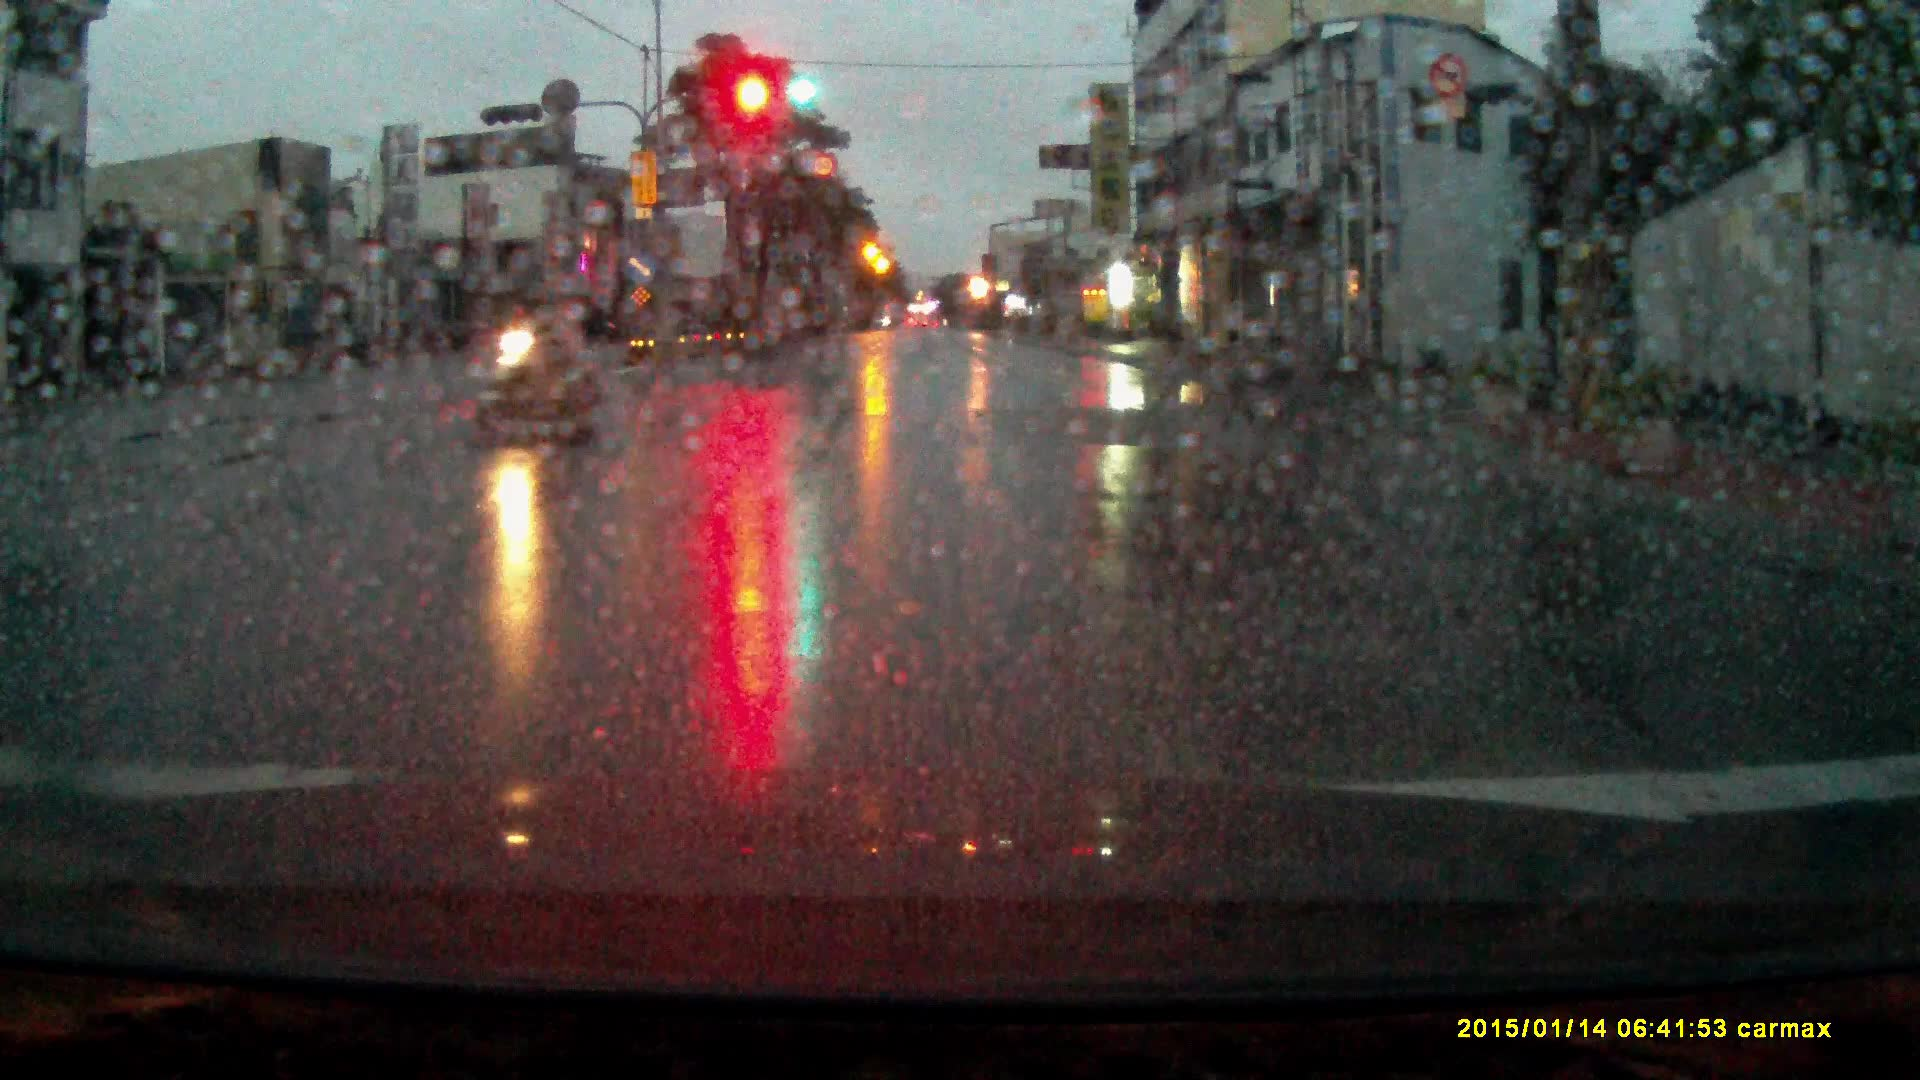rider: (473, 266, 603, 442)
